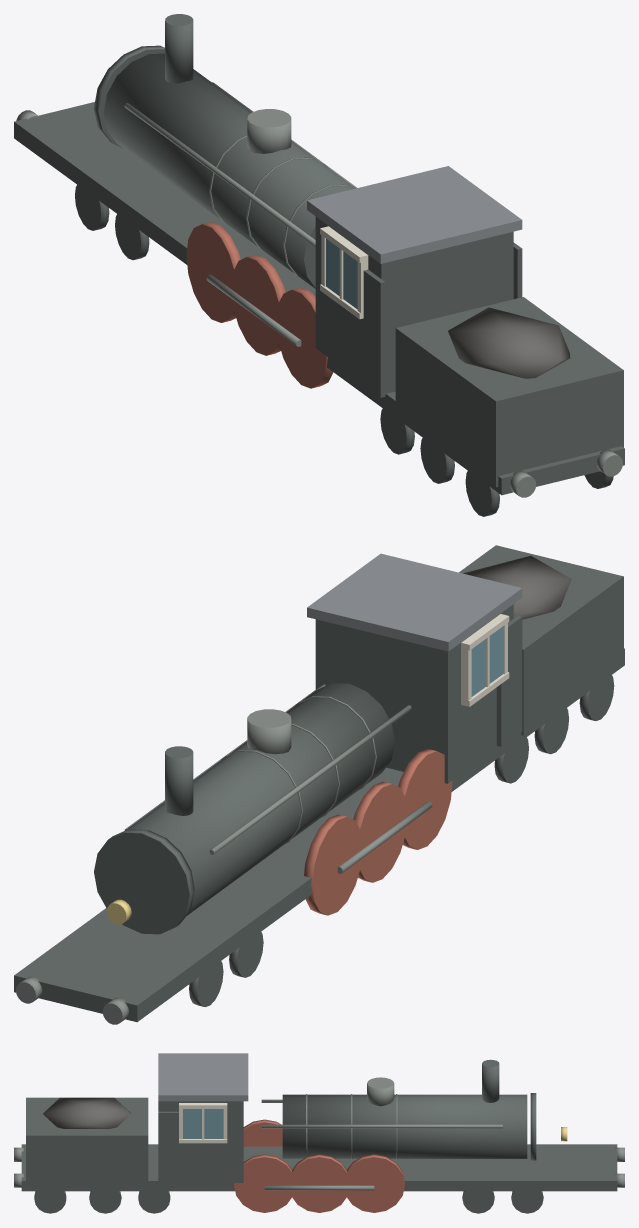
Rendered from rhine-p8_lod0.glb.
The picture shows the model from 3 angles, top to bottom: view 1: azimuth 30°, elevation 25°; view 2: azimuth 150°, elevation 25°; view 3: azimuth 270°, elevation 25°; orthographic projection. The views are drawn at different scales.
Parts seen in each view (by area): view 1: RF_Tender, RF_Boiler, RF_Chassis, RF_Cab, RF_CabRoof, RF_TenderCoal, RF_DrivingWheel.003, RF_DrivingWheel.001, RF_DrivingWheel.002, RF_CabDoor.001, RF_Chimney, RF_Dome (+9 smaller); view 2: RF_Boiler, RF_Chassis, RF_Cab, RF_Tender, RF_CabRoof, RF_SmokeboxFront, RF_DrivingWheel.003, RF_DrivingWheel.001, RF_DrivingWheel.002, RF_TenderCoal, RF_CabDoor.001, RF_Chimney (+9 smaller); view 3: RF_Boiler, RF_Chassis, RF_Tender, RF_CabRoof, RF_Cab, RF_DrivingWheel, RF_DrivingWheel.004, RF_DrivingWheel.005, RF_TenderCoal, RF_CabDoor, RF_SteamPipe, RF_Window (+12 smaller).
Part boxes in pixels (x1=…): RF_Tender: x1=395, y1=297, x2=623, y2=487; RF_Boiler: x1=103, y1=53, x2=355, y2=288; RF_Chassis: x1=14, y1=102, x2=624, y2=495; RF_Cab: x1=315, y1=217, x2=513, y2=394; RF_CabRoof: x1=307, y1=166, x2=522, y2=263; RF_TenderCoal: x1=448, y1=307, x2=570, y2=378; RF_DrivingWheel.003: x1=186, y1=222, x2=240, y2=322; RF_DrivingWheel.001: x1=276, y1=287, x2=333, y2=388; RF_DrivingWheel.002: x1=234, y1=255, x2=285, y2=355; RF_CabDoor.001: x1=359, y1=269, x2=385, y2=397; RF_Chimney: x1=165, y1=14, x2=193, y2=83; RF_Dome: x1=247, y1=109, x2=291, y2=153; RF_Boiler: x1=125, y1=683, x2=395, y2=915; RF_Chassis: x1=14, y1=648, x2=624, y2=1022; RF_Cab: x1=315, y1=604, x2=513, y2=783; RF_Tender: x1=459, y1=545, x2=623, y2=735; RF_CabRoof: x1=307, y1=553, x2=522, y2=651; RF_SmokeboxFront: x1=94, y1=829, x2=194, y2=934; RF_DrivingWheel.003: x1=304, y1=814, x2=362, y2=915; RF_DrivingWheel.001: x1=398, y1=749, x2=452, y2=849; RF_DrivingWheel.002: x1=353, y1=781, x2=407, y2=882; RF_TenderCoal: x1=463, y1=555, x2=571, y2=619; RF_CabDoor.001: x1=496, y1=615, x2=522, y2=746; RF_Chimney: x1=165, y1=746, x2=193, y2=815; RF_Boiler: x1=282, y1=1094, x2=527, y2=1158; RF_Chassis: x1=21, y1=1144, x2=617, y2=1191; RF_Tender: x1=26, y1=1097, x2=148, y2=1188; RF_CabRoof: x1=158, y1=1053, x2=248, y2=1101; RF_Cab: x1=163, y1=1101, x2=243, y2=1182; RF_DrivingWheel: x1=345, y1=1154, x2=404, y2=1212; RF_DrivingWheel.004: x1=234, y1=1154, x2=295, y2=1212; RF_DrivingWheel.005: x1=290, y1=1154, x2=350, y2=1212; RF_TenderCoal: x1=43, y1=1097, x2=131, y2=1128; RF_CabDoor: x1=158, y1=1111, x2=183, y2=1182; RF_SteamPipe: x1=261, y1=1124, x2=502, y2=1128; RF_Window: x1=183, y1=1109, x2=223, y2=1138.
Bounding box in the file's own units: 3.28 × 4.53 × 18.98.
